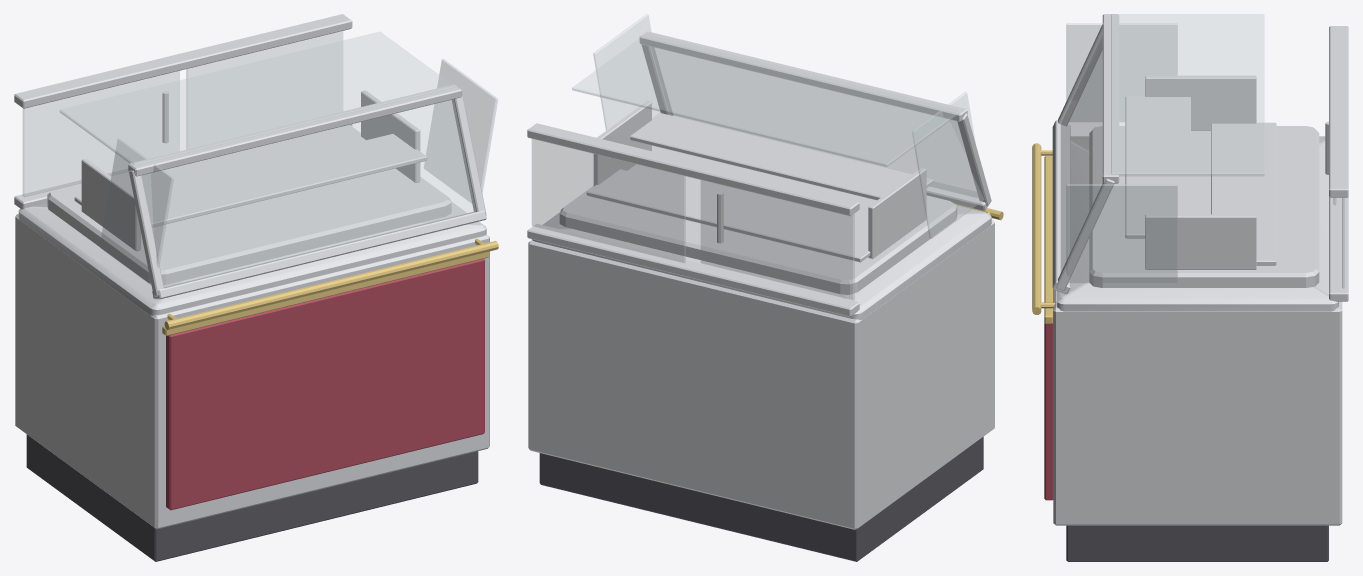
Rendered from butchers-shop-and-deli-counter-deli-counter-module-384013c3__34425.glb.
3 views of the same model, side by side, from view 1: azimuth 30°, elevation 25°; view 2: azimuth 150°, elevation 25°; view 3: azimuth 270°, elevation 25° (orthographic). The views are drawn at different scales.
Visible parts, largest first — view 1: deli-counter-module, counter-door/glass; view 2: deli-counter-module, counter-door/glass; view 3: deli-counter-module.
Boxes of the visible parts, x1=… form: deli-counter-module: x1=14, y1=14, x2=498, y2=561; counter-door/glass: x1=23, y1=71, x2=179, y2=196; deli-counter-module: x1=527, y1=14, x2=1003, y2=561; counter-door/glass: x1=701, y1=180, x2=854, y2=300; deli-counter-module: x1=1032, y1=14, x2=1348, y2=561.
Size of the model in its own units: 1.25 by 1.31 by 0.964.
